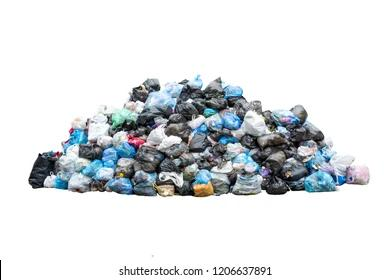garbage: (25, 77, 375, 202)
